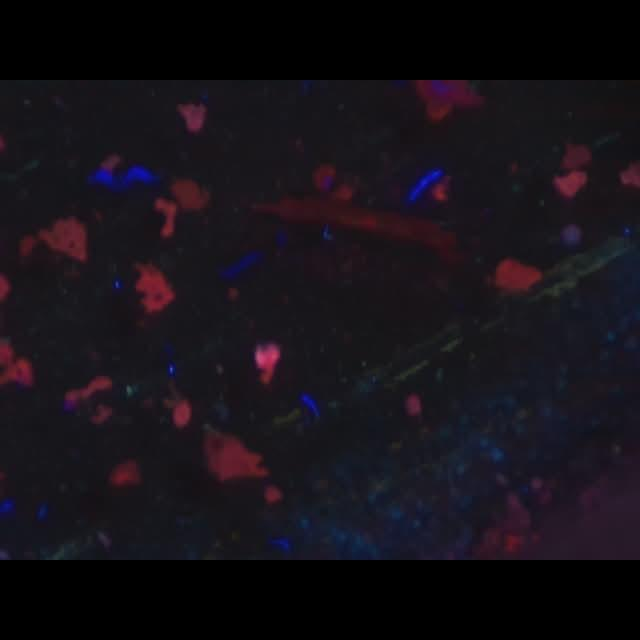Fragment: (252, 340, 280, 384), (175, 100, 209, 132)
